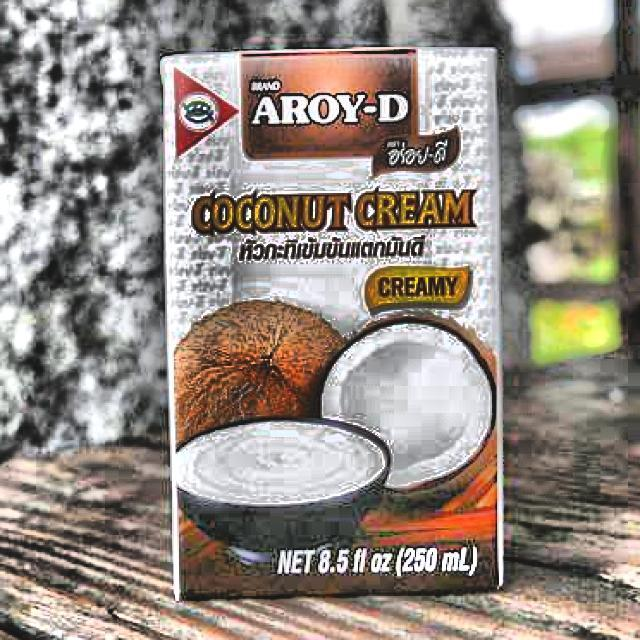cardboard: (158, 44, 504, 601)
